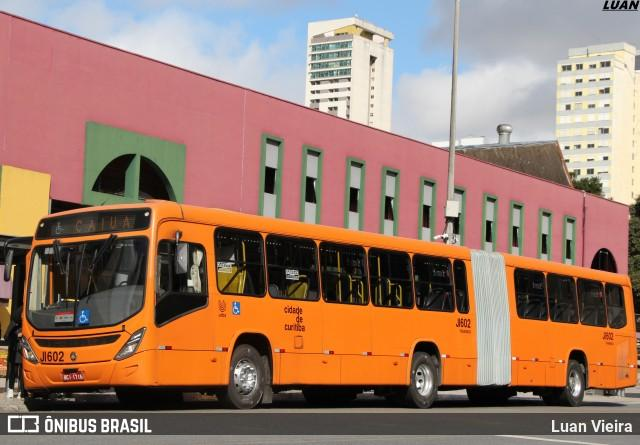CAIUA: (74, 212, 134, 236)
